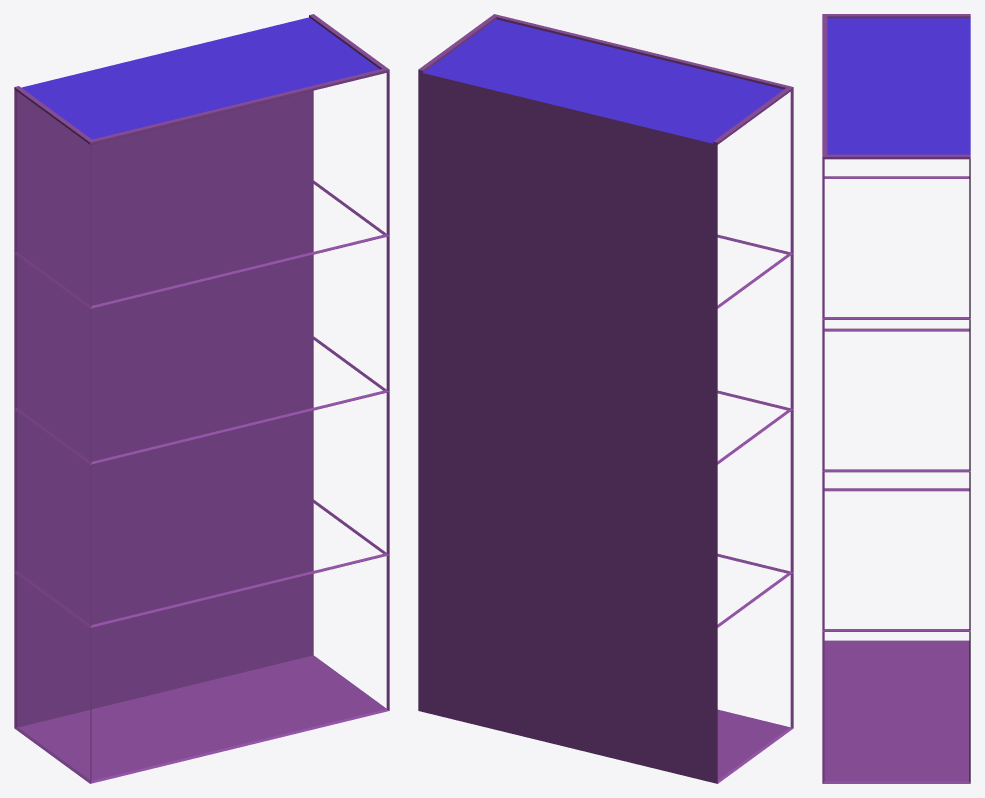
File: SpawnBalcony.fbx
3 views of the same model, side by side, from view 1: azimuth 30°, elevation 25°; view 2: azimuth 150°, elevation 25°; view 3: azimuth 270°, elevation 25° (orthographic). The views are drawn at different scales.
Parts seen in each view (by area): view 1: Balcony; view 2: Balcony; view 3: Balcony.
Part boxes in pixels (x1,y1,x2,y2): Balcony: [14, 14, 389, 783]; Balcony: [418, 14, 793, 783]; Balcony: [822, 14, 970, 783].
Bounding box in the file's own units: 4205 × 8605 × 1848.
